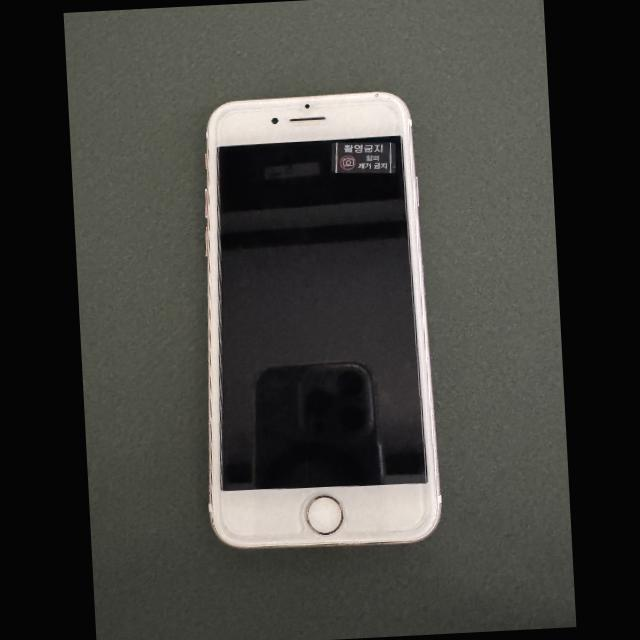lens: (305, 104, 310, 108)
phone: (205, 92, 441, 548)
sticker: (331, 141, 396, 174)
